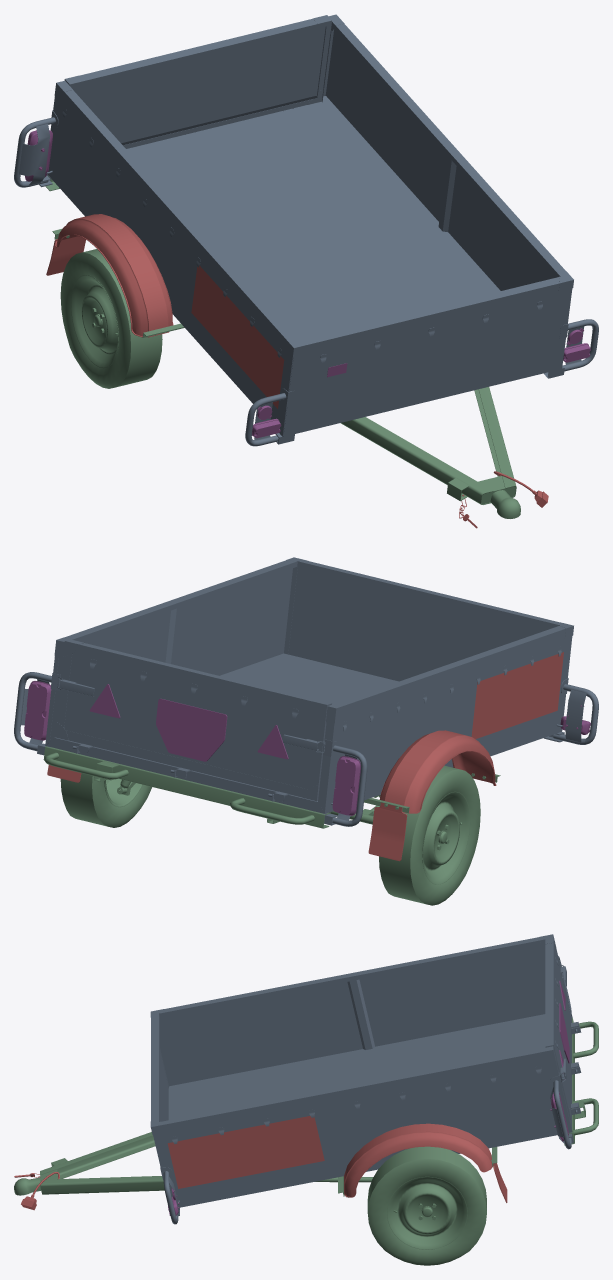
The model's file is KZAP_low.fbx.
The picture shows the model from 3 angles, top to bottom: view 1: azimuth 30°, elevation 25°; view 2: azimuth 150°, elevation 25°; view 3: azimuth 270°, elevation 25°; orthographic projection. The views are drawn at different scales.
Parts seen in each view (by area): view 1: Kuzov_10_low, Kuzov_5_low, Kuzov_11_low, Kuzov_17_low, Kuzov_7_low, Krilo_low, Koleso_1_low, Opa_low, Rama_1_low, Kuzov_18_low, Kuzov_3_low, Koleso_2_low (+3 smaller); view 2: Kuzov_5_low, Kuzov_11_low, Kuzov_17_low, Koleso_1_low, Kuzov_7_low, Kuzov_10_low, Kuzov_18_low, Opa_low, Krilo_low, Kuzov_3_low, Kuzov_2_low, Koleso_2_low (+9 smaller); view 3: Kuzov_5_low, Kuzov_10_low, Kuzov_7_low, Opa_low, Koleso_1_low, Koleso_2_low, Rama_1_low, Krilo_low, Kuzov_18_low, Kuzov_3_low, Kuzov_17_low, Rama_4_low (+4 smaller).
Part boxes in pixels (bbox=[...]): Kuzov_10_low: bbox=[126, 96, 500, 340]; Kuzov_5_low: bbox=[47, 29, 572, 436]; Kuzov_11_low: bbox=[283, 288, 571, 436]; Kuzov_17_low: bbox=[74, 27, 325, 143]; Kuzov_7_low: bbox=[61, 23, 565, 352]; Krilo_low: bbox=[55, 214, 173, 337]; Koleso_1_low: bbox=[60, 249, 162, 388]; Opa_low: bbox=[191, 265, 284, 408]; Rama_1_low: bbox=[45, 175, 516, 504]; Kuzov_18_low: bbox=[80, 18, 330, 148]; Kuzov_3_low: bbox=[14, 110, 598, 446]; Koleso_2_low: bbox=[71, 275, 118, 368]; Kuzov_5_low: bbox=[45, 566, 572, 813]; Kuzov_11_low: bbox=[288, 567, 550, 681]; Kuzov_17_low: bbox=[64, 652, 317, 789]; Koleso_1_low: bbox=[60, 765, 480, 905]; Kuzov_7_low: bbox=[65, 560, 565, 715]; Kuzov_10_low: bbox=[46, 653, 398, 813]; Kuzov_18_low: bbox=[56, 643, 326, 797]; Opa_low: bbox=[471, 652, 563, 739]; Krilo_low: bbox=[379, 730, 496, 813]; Kuzov_3_low: bbox=[14, 672, 598, 826]; Kuzov_2_low: bbox=[156, 698, 288, 761]; Koleso_2_low: bbox=[104, 778, 470, 884]; Kuzov_5_low: bbox=[153, 944, 572, 1207]; Kuzov_10_low: bbox=[168, 1014, 571, 1128]; Kuzov_7_low: bbox=[151, 937, 544, 1131]; Opa_low: bbox=[167, 1116, 324, 1188]; Koleso_1_low: bbox=[367, 1146, 486, 1265]; Koleso_2_low: bbox=[387, 1176, 467, 1249]; Rama_1_low: bbox=[40, 1018, 574, 1194]; Krilo_low: bbox=[344, 1123, 492, 1197]; Kuzov_18_low: bbox=[545, 943, 570, 1112]; Kuzov_3_low: bbox=[160, 956, 573, 1224]; Kuzov_17_low: bbox=[555, 949, 569, 1107]; Rama_4_low: bbox=[573, 1021, 598, 1135].
Bounding box in the file's own units: 166 × 104 × 272.
